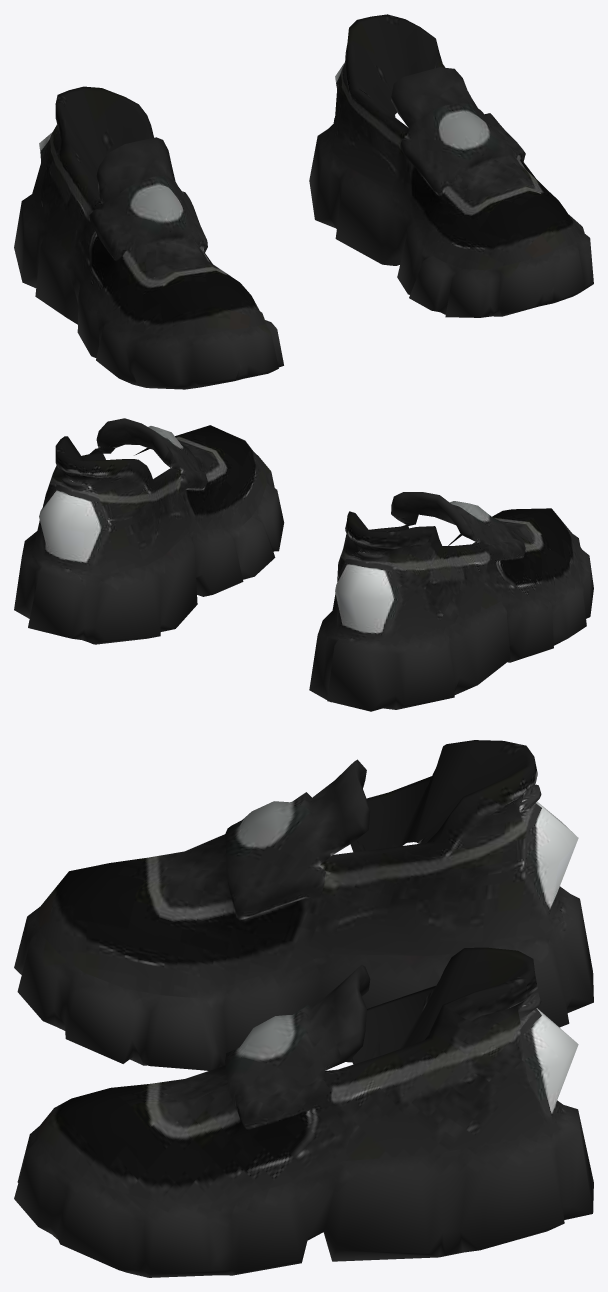
File: shoe2.glb
3 views of the same model, one above another, from view 1: azimuth 30°, elevation 25°; view 2: azimuth 150°, elevation 25°; view 3: azimuth 270°, elevation 25° (orthographic). The views are drawn at different scales.
Visible parts, largest first — view 1: Wolf3D_Outfit_Footwear; view 2: Wolf3D_Outfit_Footwear; view 3: Wolf3D_Outfit_Footwear.
Part boxes in pixels (x1,y1,x2,y2): Wolf3D_Outfit_Footwear: [14, 14, 593, 389]; Wolf3D_Outfit_Footwear: [14, 418, 593, 711]; Wolf3D_Outfit_Footwear: [14, 740, 593, 1277].
Size of the model in its own units: 0.4873 by 0.1873 by 0.3588.
1 material, 1 textured.
